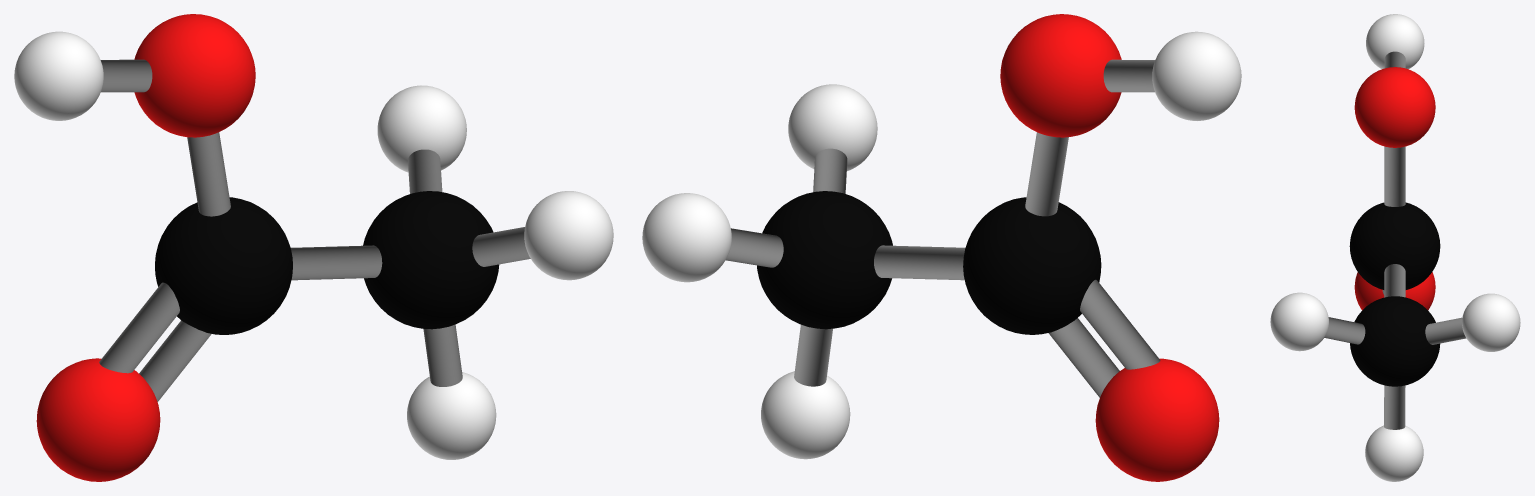
3 renders of one model, left to right at view 1: azimuth 30°, elevation 25°; view 2: azimuth 150°, elevation 25°; view 3: azimuth 270°, elevation 25°, orthographic. The views are drawn at different scales.
Parts seen in each view (by area): view 1: C4_Atom, C3_Atom, O2_Atom, O1_Atom, H8_Atom, H6_Atom, H7_Atom, H5_Atom, Cylinder6, Cylinder4, Cylinder8, Cylinder5 (+4 smaller); view 2: C4_Atom, C3_Atom, O2_Atom, O1_Atom, H5_Atom, H8_Atom, H7_Atom, H6_Atom, Cylinder6, Cylinder4, Cylinder8, Cylinder5 (+4 smaller); view 3: C3_Atom, C4_Atom, O1_Atom, H5_Atom, H6_Atom, H7_Atom, H8_Atom, Cylinder8, O2_Atom, Cylinder1, Cylinder3, Cylinder2 (+2 smaller).
Boxes of the visible parts, x1,y1,x2,y2 form: C4_Atom: [155, 197, 292, 334]; C3_Atom: [363, 191, 499, 329]; O2_Atom: [36, 358, 160, 481]; O1_Atom: [134, 14, 255, 137]; H8_Atom: [14, 31, 103, 120]; H6_Atom: [524, 191, 613, 280]; H7_Atom: [407, 372, 496, 459]; H5_Atom: [377, 85, 466, 172]; Cylinder6: [99, 282, 179, 373]; Cylinder4: [291, 245, 382, 280]; Cylinder8: [187, 132, 230, 216]; Cylinder5: [139, 320, 211, 401]; C4_Atom: [963, 197, 1101, 334]; C3_Atom: [757, 191, 892, 329]; O2_Atom: [1095, 358, 1219, 481]; O1_Atom: [1000, 14, 1121, 137]; H5_Atom: [642, 193, 731, 282]; H8_Atom: [1152, 31, 1241, 120]; H7_Atom: [761, 371, 850, 459]; H6_Atom: [788, 84, 877, 170]; Cylinder6: [1080, 279, 1160, 369]; Cylinder4: [874, 245, 965, 280]; Cylinder8: [1025, 132, 1068, 216]; Cylinder5: [1048, 318, 1119, 397]; C3_Atom: [1350, 296, 1440, 386]; C4_Atom: [1349, 202, 1440, 289]; O1_Atom: [1354, 67, 1435, 147]; H5_Atom: [1462, 293, 1520, 351]; H6_Atom: [1270, 292, 1328, 351]; H7_Atom: [1365, 425, 1423, 481]; H8_Atom: [1366, 14, 1424, 69]; Cylinder8: [1384, 146, 1405, 206]; O2_Atom: [1354, 272, 1435, 310]; Cylinder1: [1384, 385, 1405, 429]; Cylinder3: [1425, 317, 1466, 344]; Cylinder2: [1324, 317, 1365, 344].
Size of the model in its own units: 3.65 by 3.49 by 2.35.
